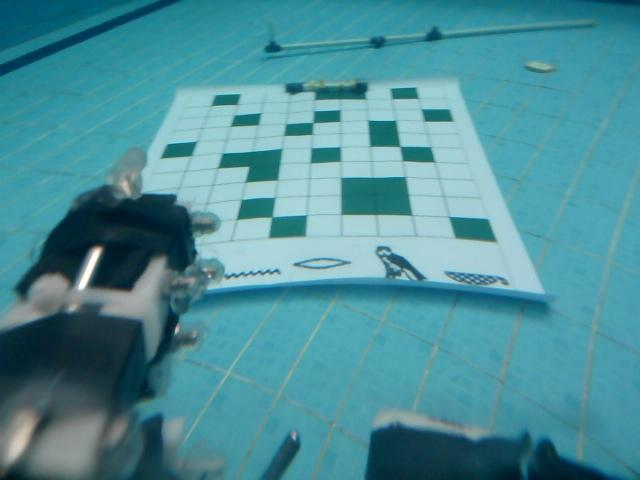Basket: (444, 266, 506, 291)
Mouth: (291, 252, 350, 277)
Owl: (373, 245, 426, 286)
Water: (223, 267, 281, 286)
